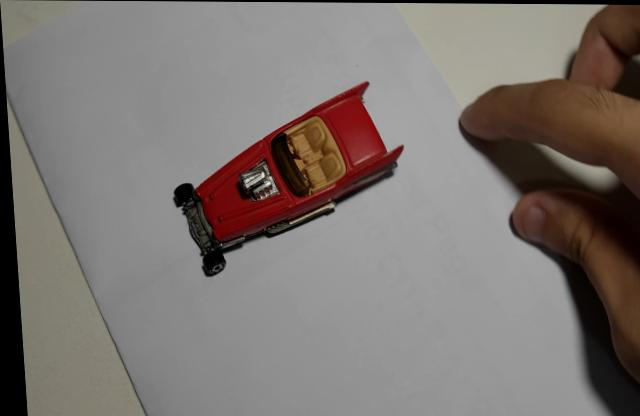03_V8: (170, 83, 402, 278)
